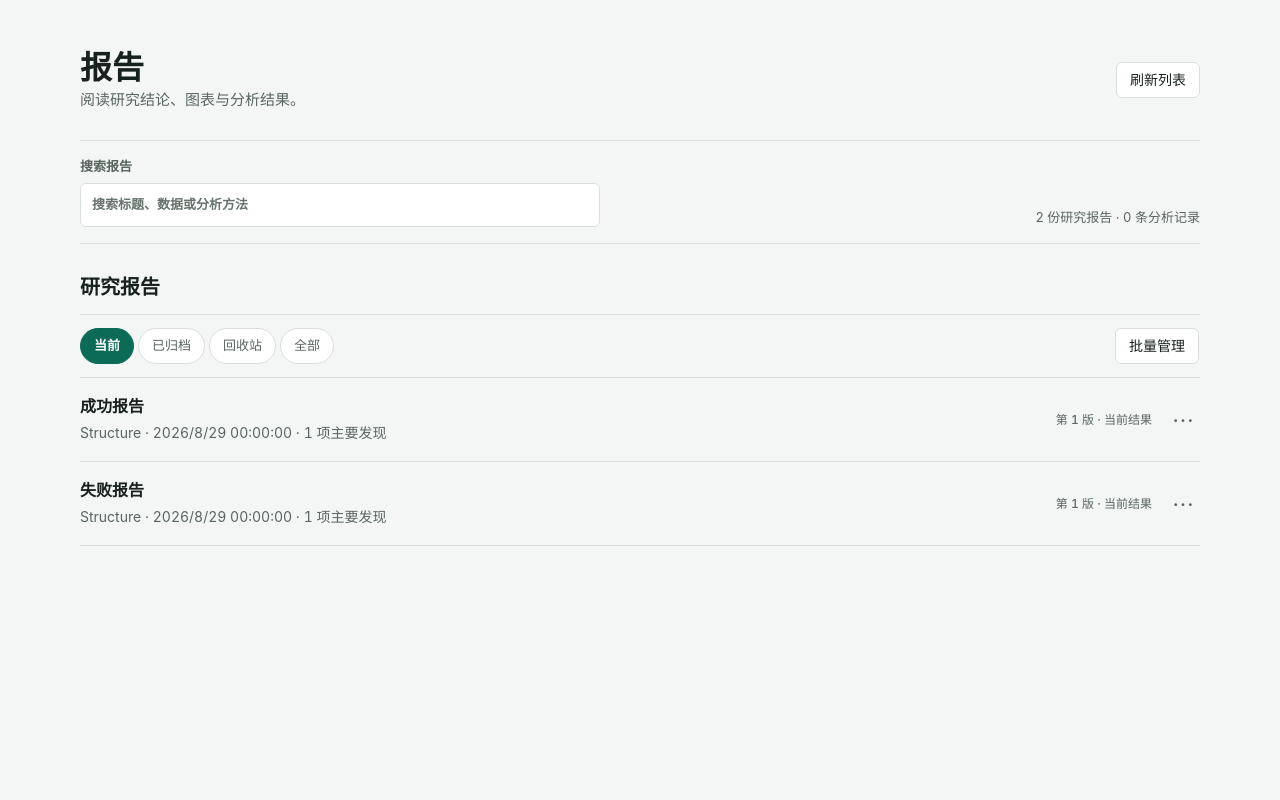
keeps the full selection unchanged when atomic bulk lifecycle fails
expect the link "成功报告 Structure · 2026/8/29 00:00:00 · 1 项主要发现 第 1 版 · 当前结果" is shown: met, box [80,396,1152,441]
Click the button "批量管理" at {"x": 1157, "y": 346}, box [1115,328,1199,364]
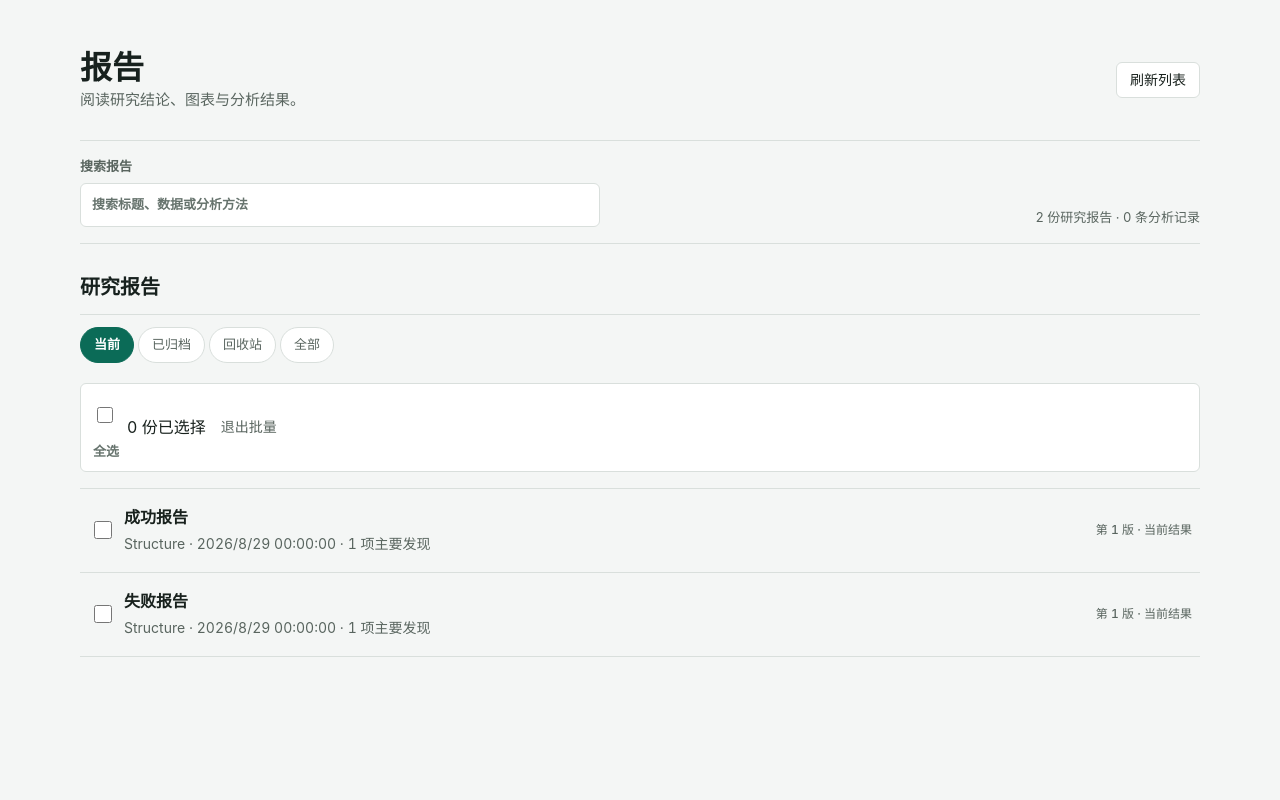
Click the checkbox named "选择 成功报告" at {"x": 102, "y": 530}, box [94,512,112,548]
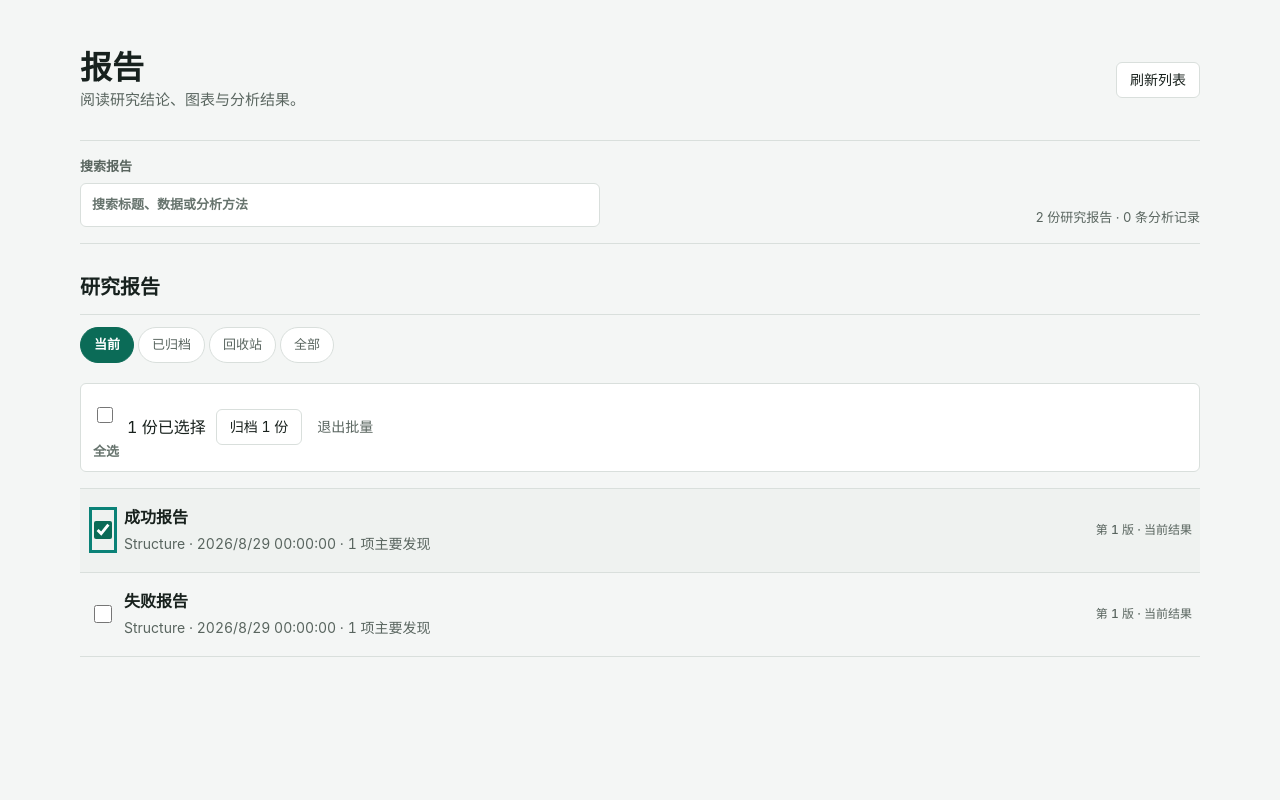
Click the checkbox named "选择 失败报告" at {"x": 102, "y": 614}, box [94,596,112,632]
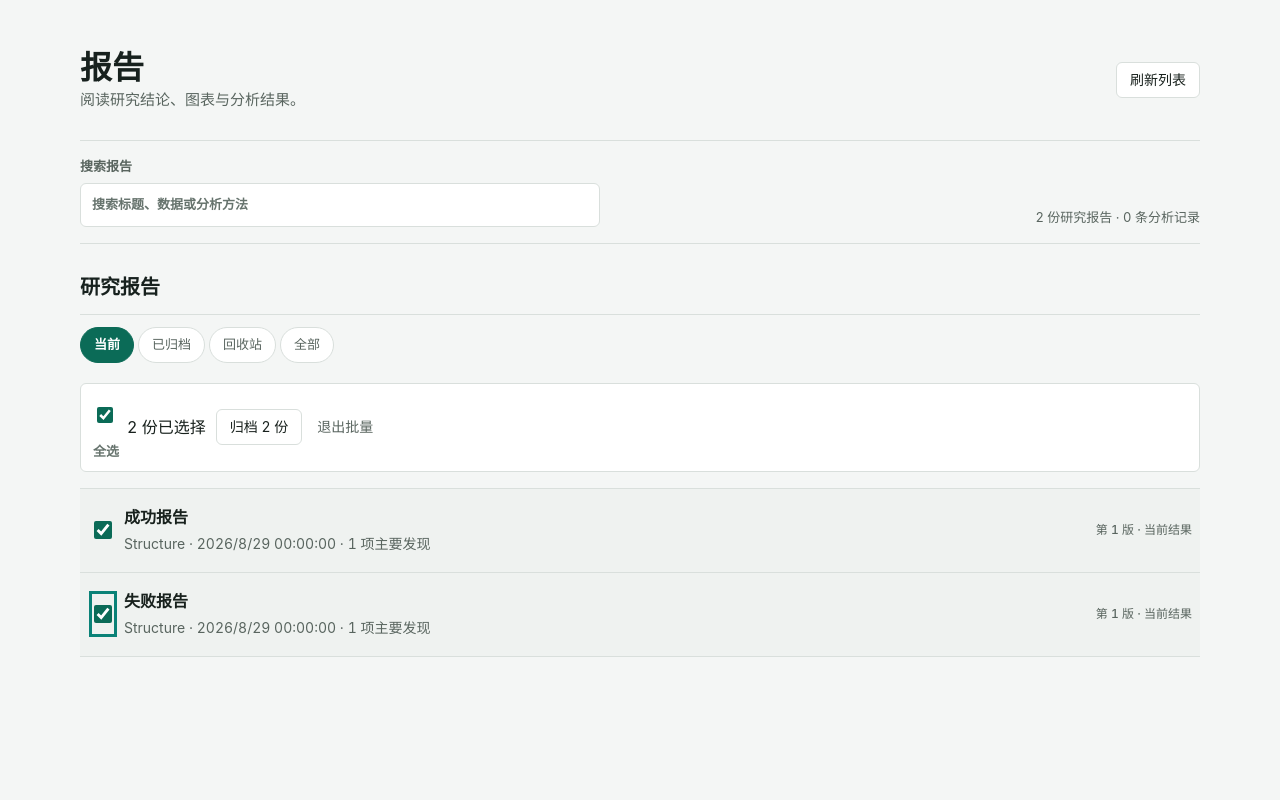
Click the button "归档 2 份" at {"x": 259, "y": 427}, box [216,409,302,445]
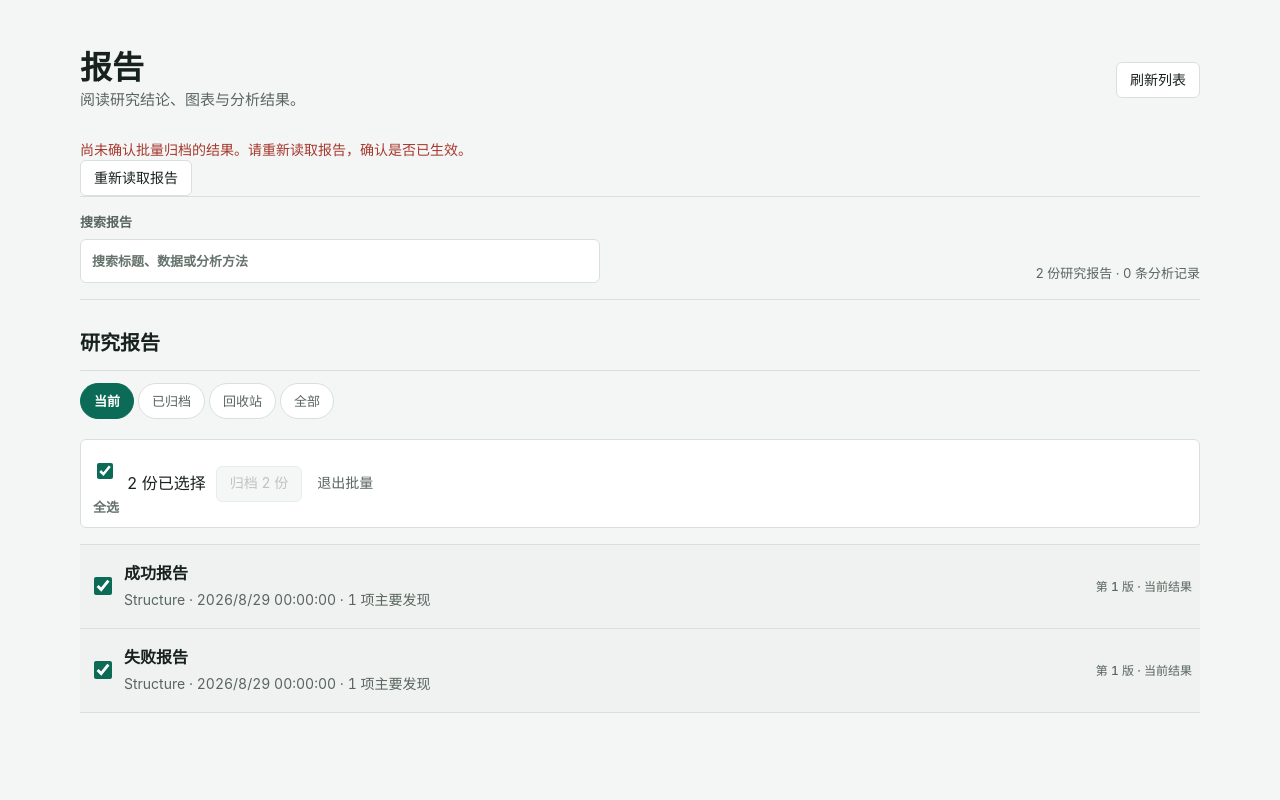
expect the checkbox named "选择 成功报告" is checked: met, box [94,568,112,604]
expect the checkbox named "选择 失败报告" is checked: met, box [94,652,112,688]
expect the message shows "尚未确认批量归档的结果": met, box [80,141,472,158]
